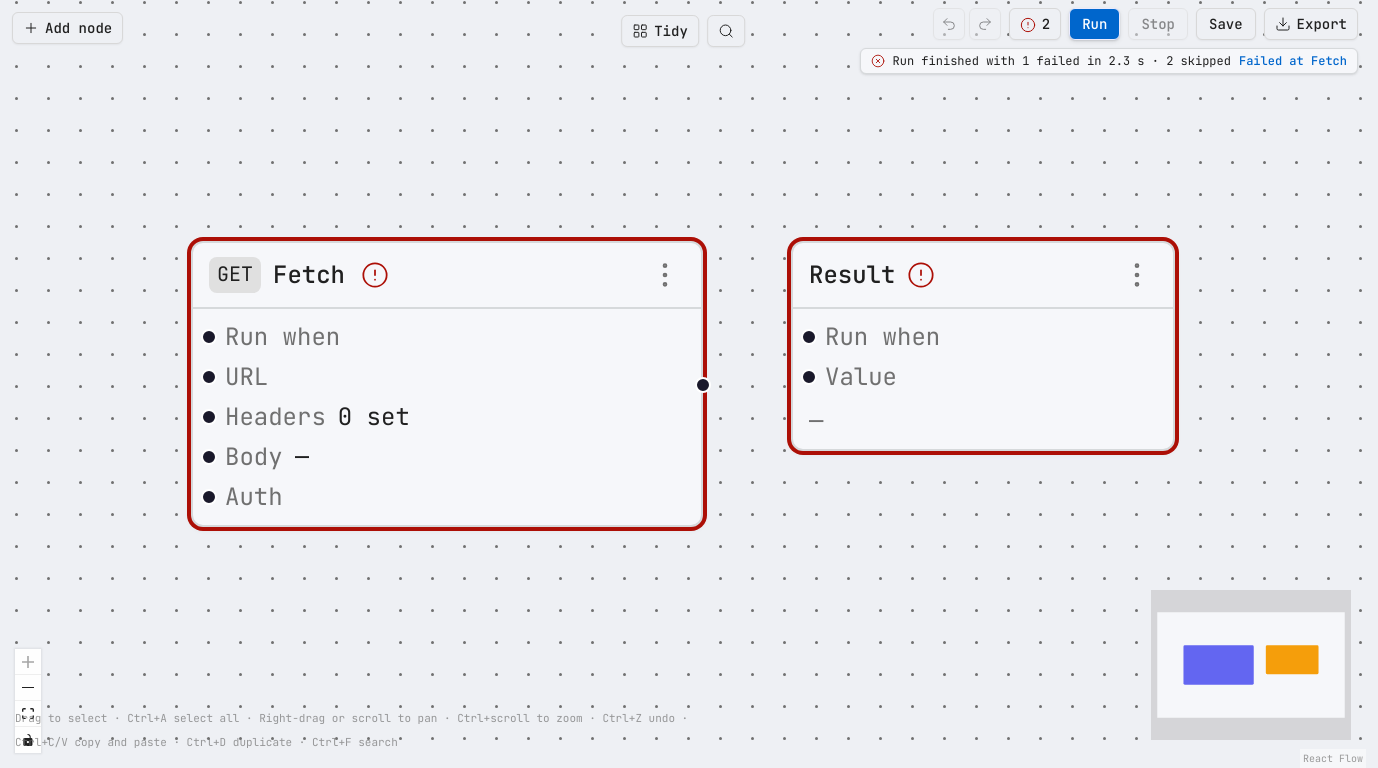
FlowPane run-result strip › selecting the failed node opens its panel on the Last run tab
Click the button with aria-label "Select failed node Fetch" at (1293, 61), box [1239,53,1347,69]
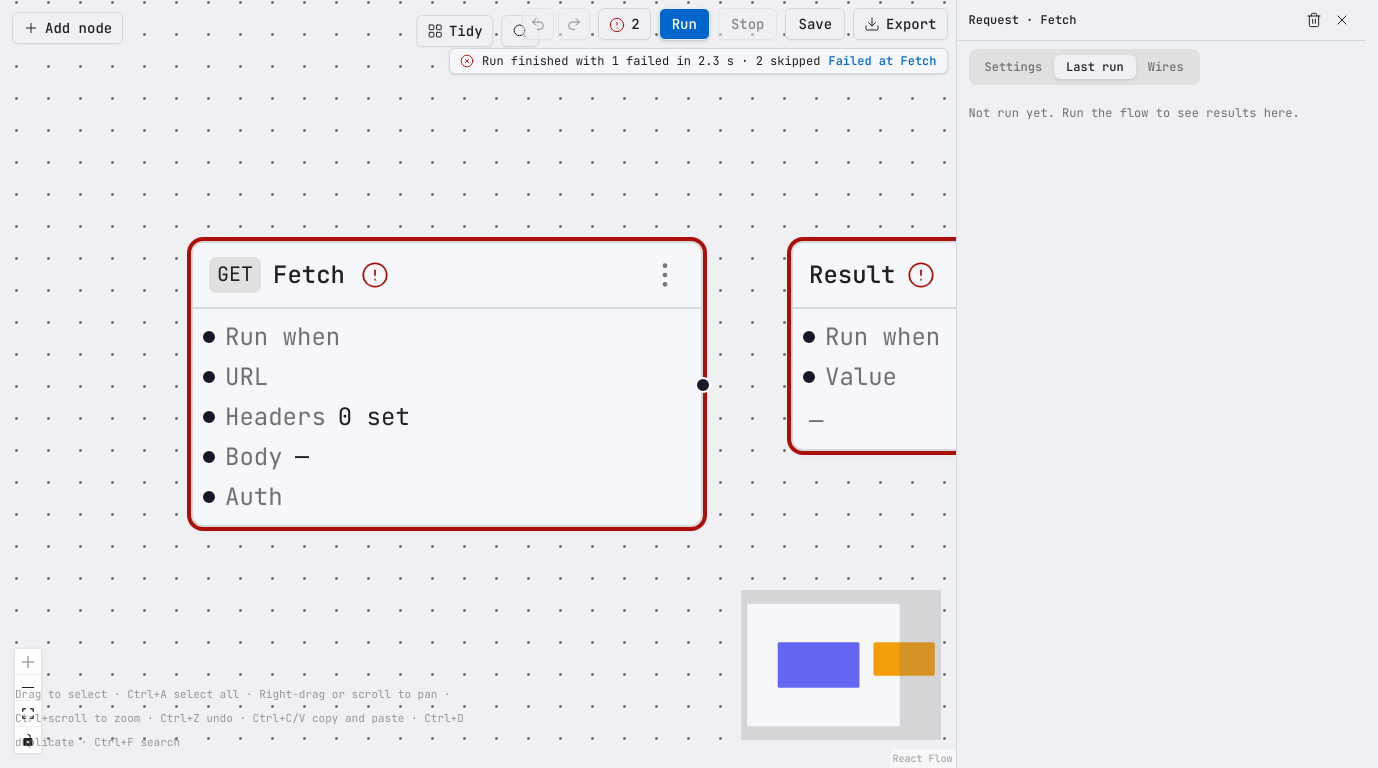
Result: the element with test id "node-properties-panel" shows "Fetch" at [1040,12,1076,28]
